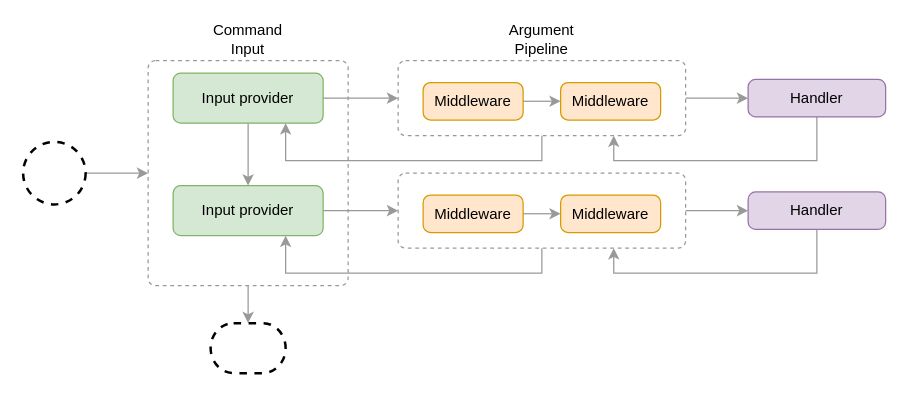
Some shapes in this 908 by 396 pixel diagram are drawn without their labels. The centre of each missing label's shape, as x and y in pixels:
"App Start" belongs at point 53,172.
"Exit" belongs at point 247,347.
